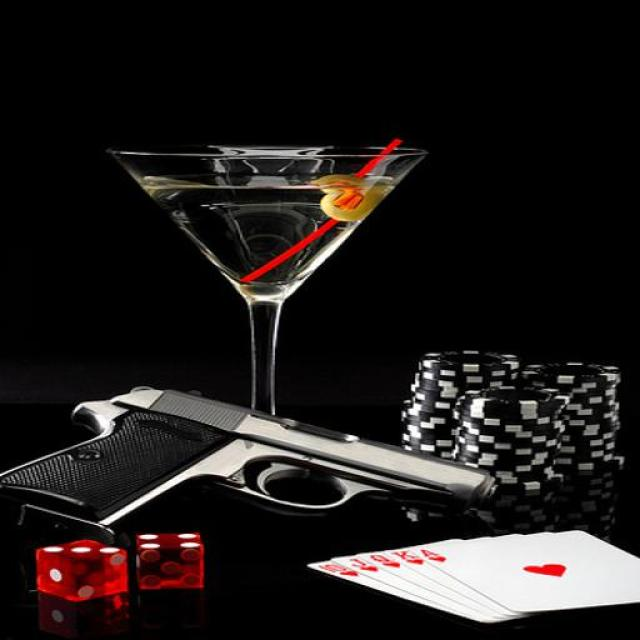pistol: (9, 385, 498, 546)
